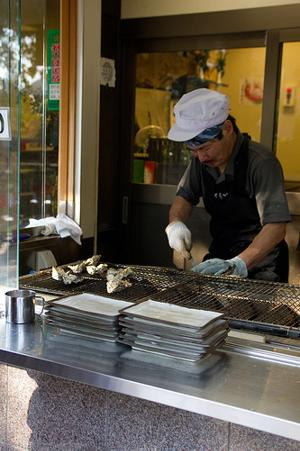person: (168, 88, 290, 285)
